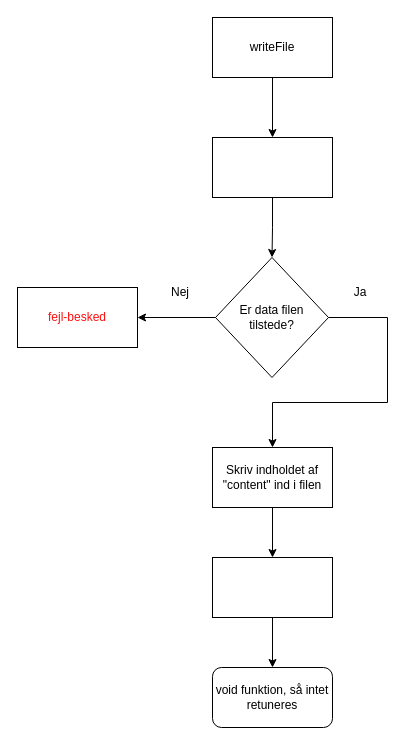
This 413x745 diagram has some shape labels left out. The shapes that lost their labels are listed below. From the top down, each one's centre as x and y in pixels, then its label:
point 272,167: Opret/Åben "destFileName" (plant.txt)
point 272,587: Luk filen
